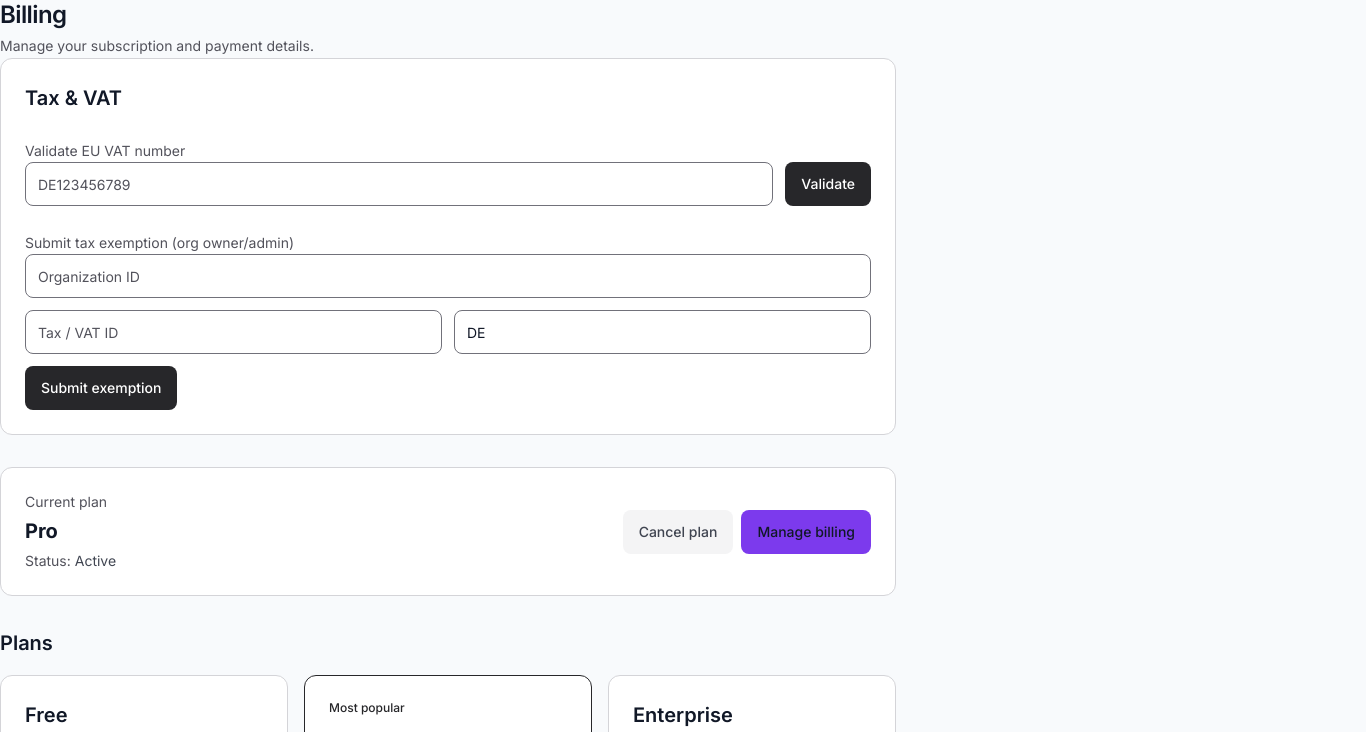
it: BillingPage › opens the cancellation modal and requires a reason before confirming
Click the button "Cancel plan": (678, 532) left=623, top=510, right=733, bottom=554
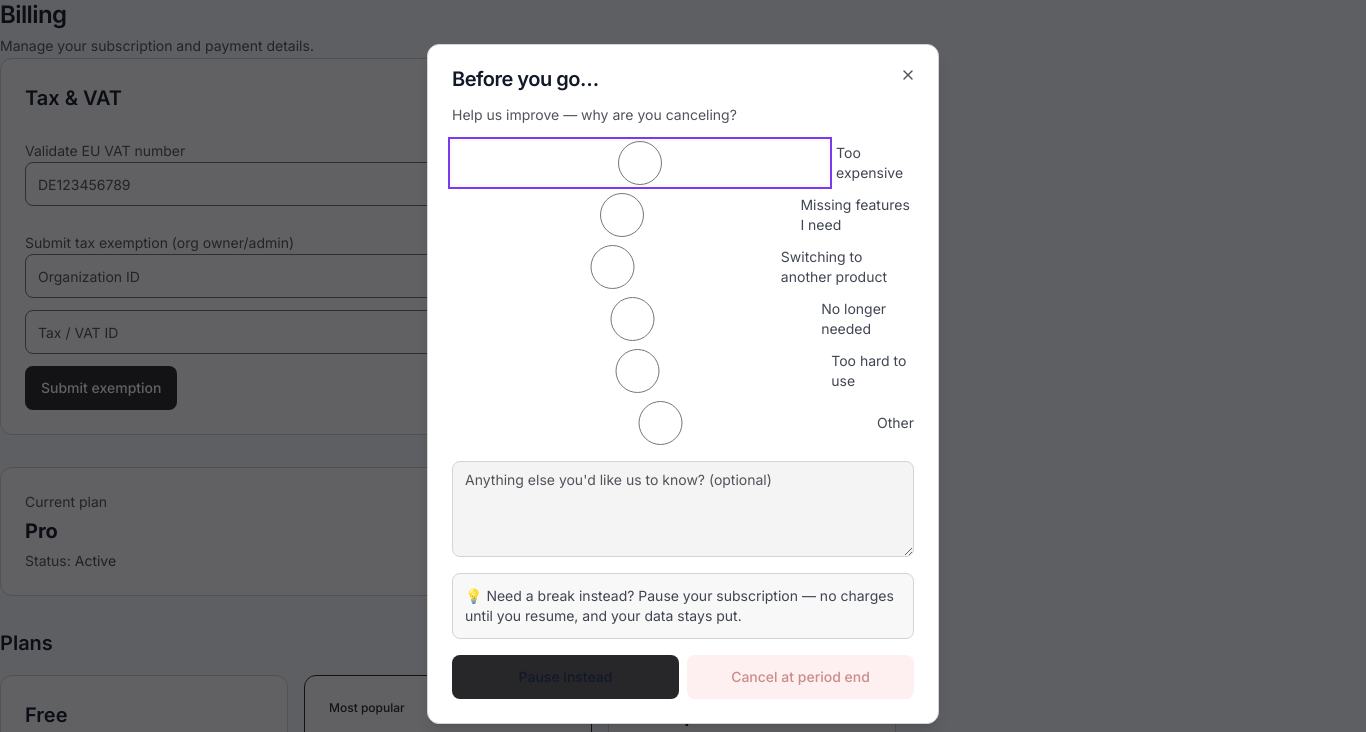
Expected: the heading "Before you go…" is shown, left=452, top=67, right=598, bottom=91
Expected: the button "Cancel at period end" is disabled, left=687, top=655, right=914, bottom=699
Click the radio button labelled "Too expensive": (640, 163) left=452, top=141, right=828, bottom=185
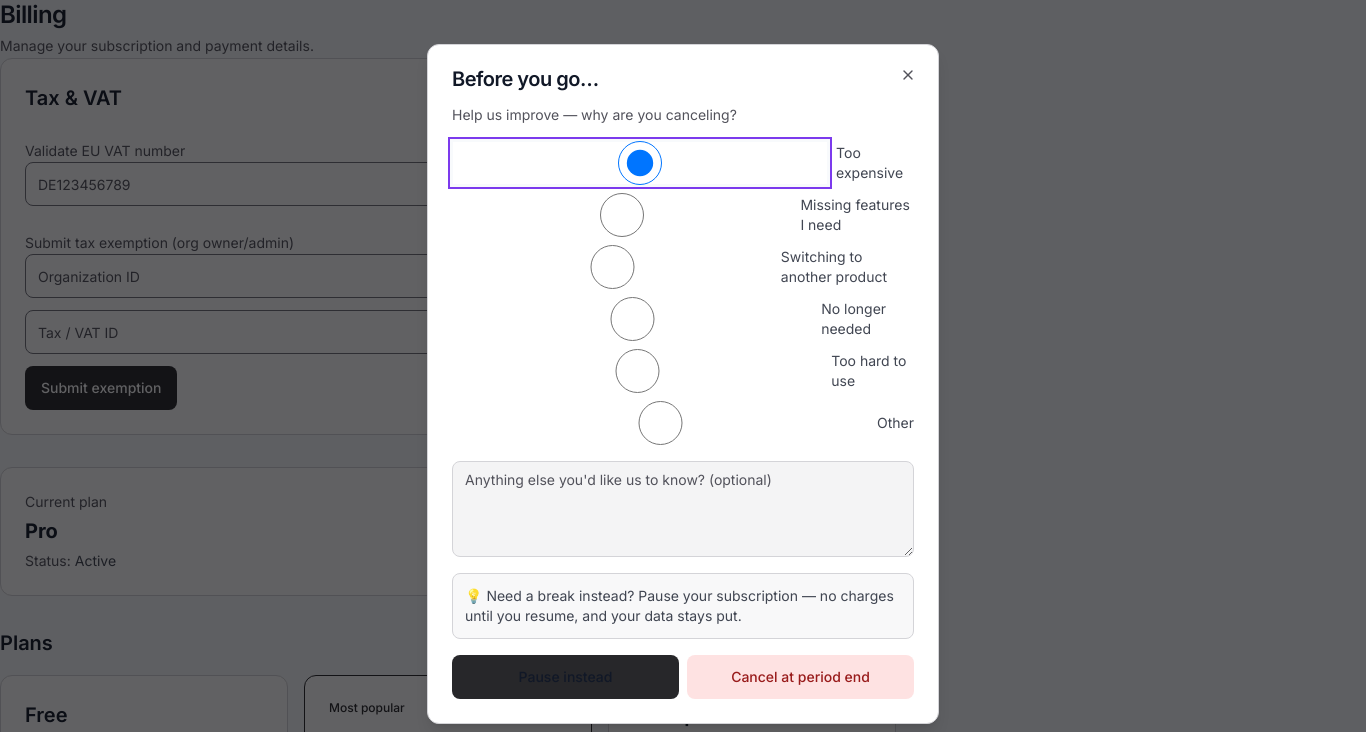
Expected: the button "Cancel at period end" is enabled, left=687, top=655, right=914, bottom=699
